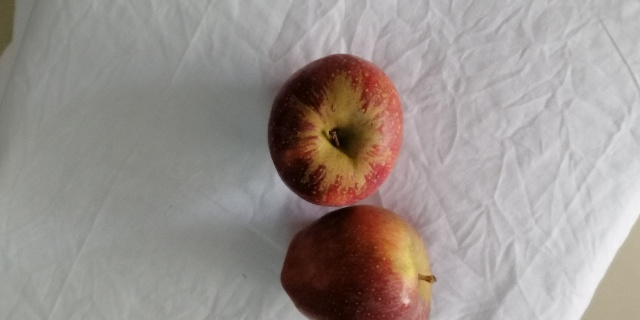apple_kashmir: (268, 53, 411, 204), (281, 206, 438, 320)
